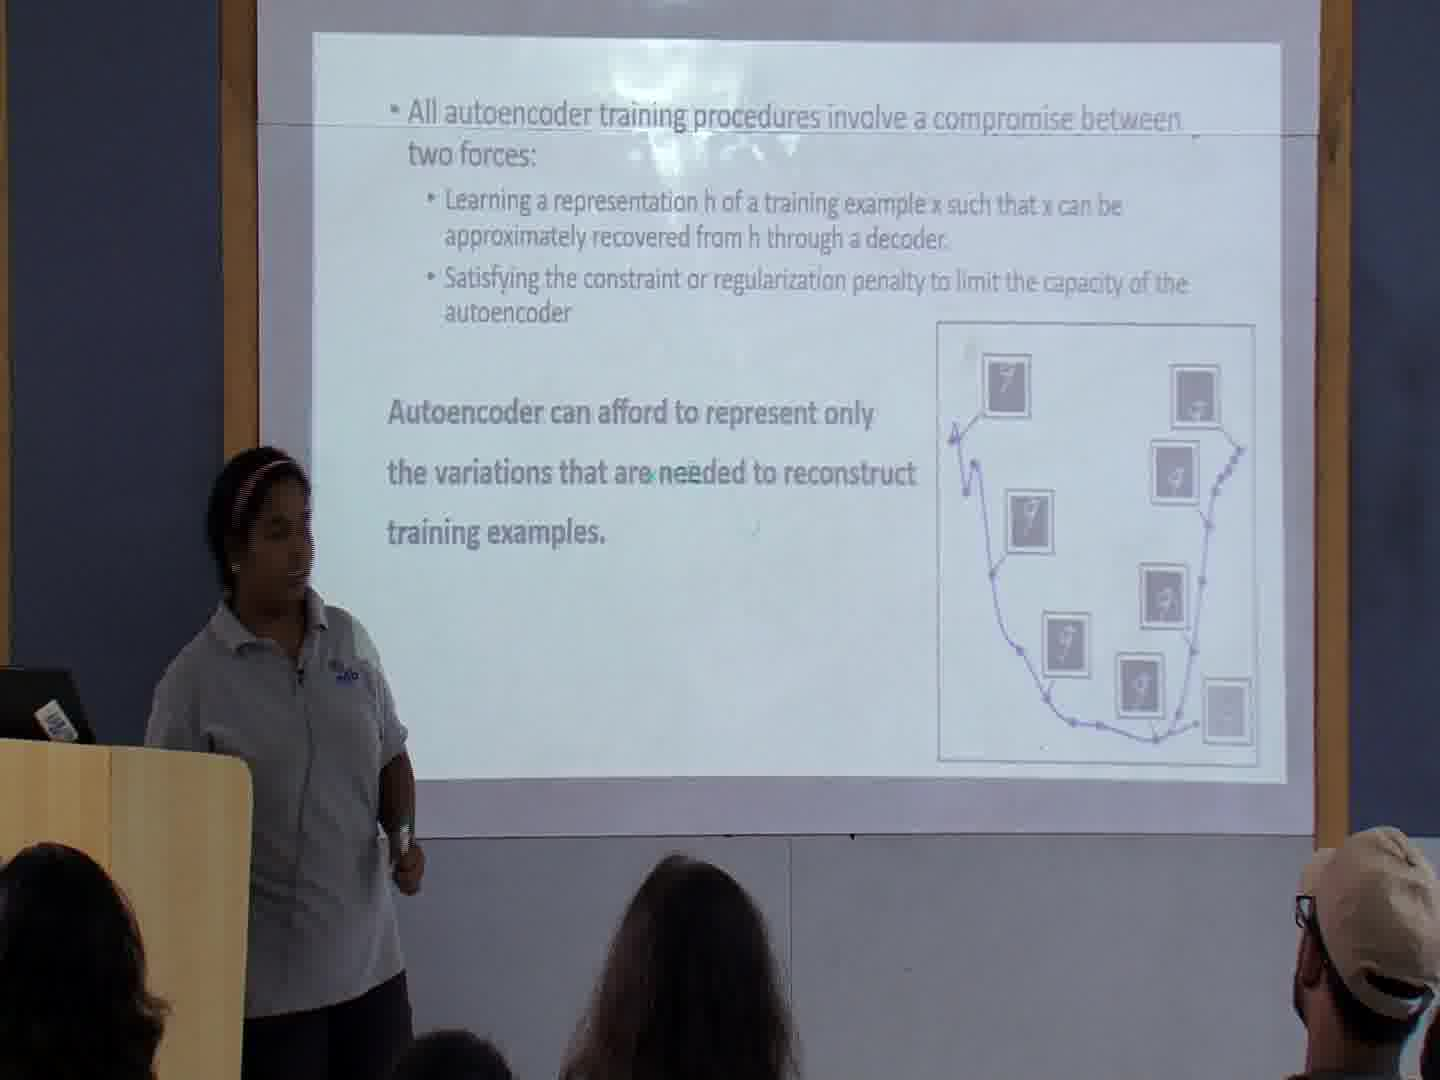slide: (311, 32, 1287, 782)
